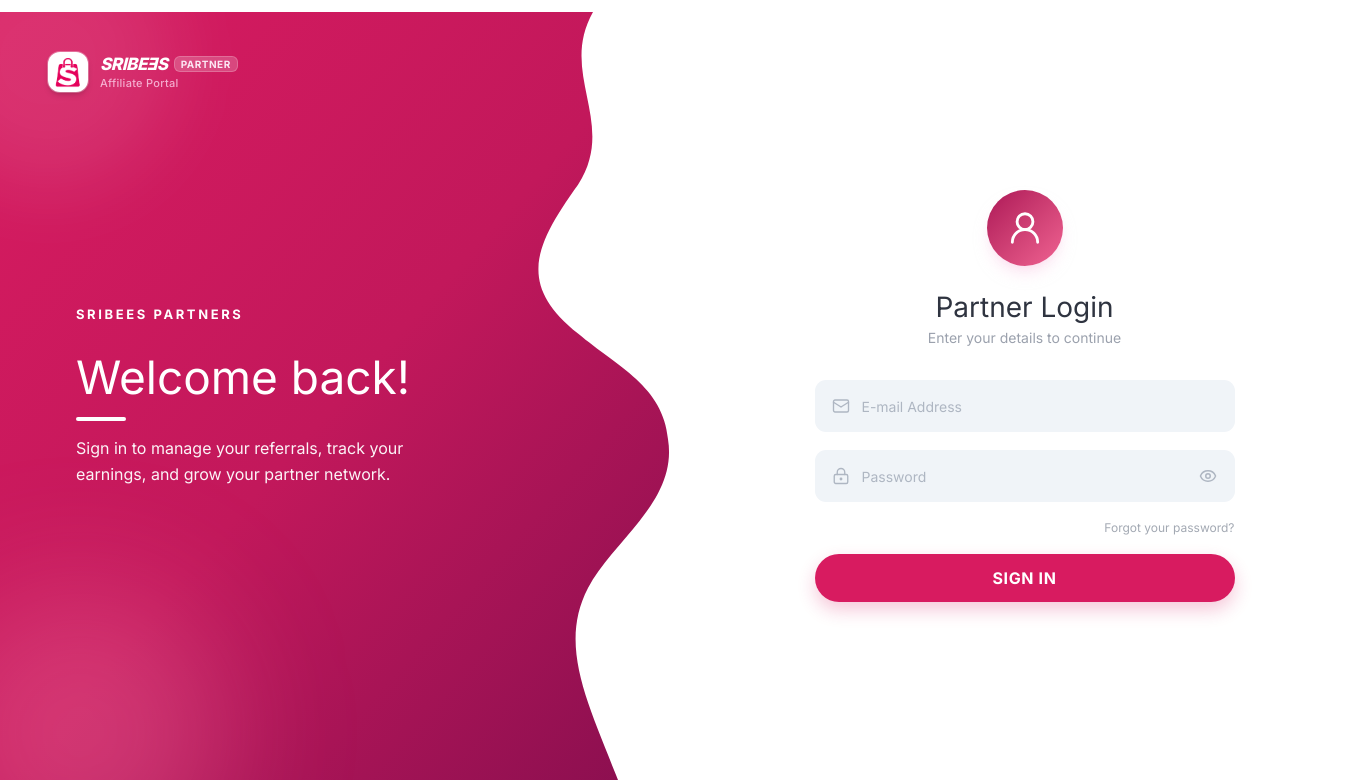
Test: Partner login › falls back to a plain message when the server said nothing
Type "agent@example.test" into the field named "Email" at [1042, 406], box top-left (850, 381), bottom-right (1234, 431)
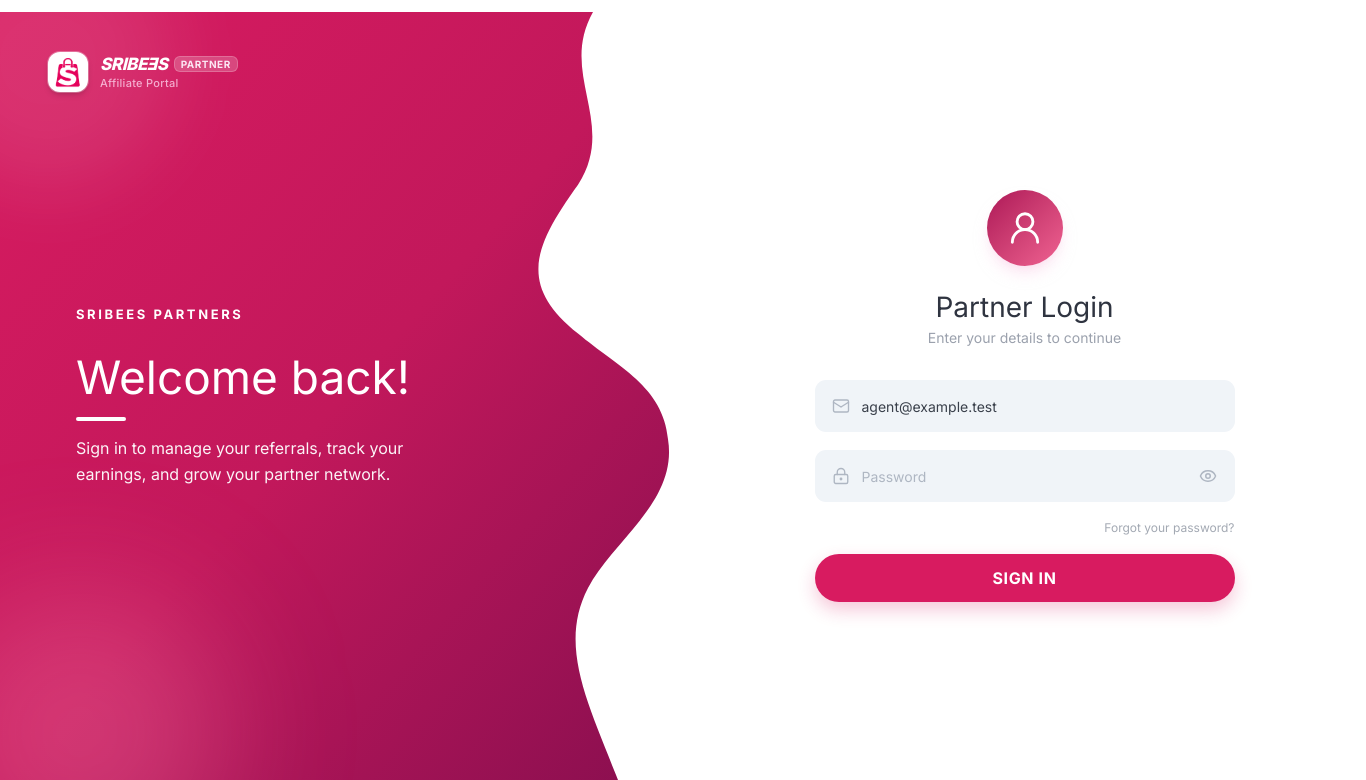
Type "pw" into the password field labelled "Password" at [1022, 476], box top-left (850, 451), bottom-right (1196, 501)
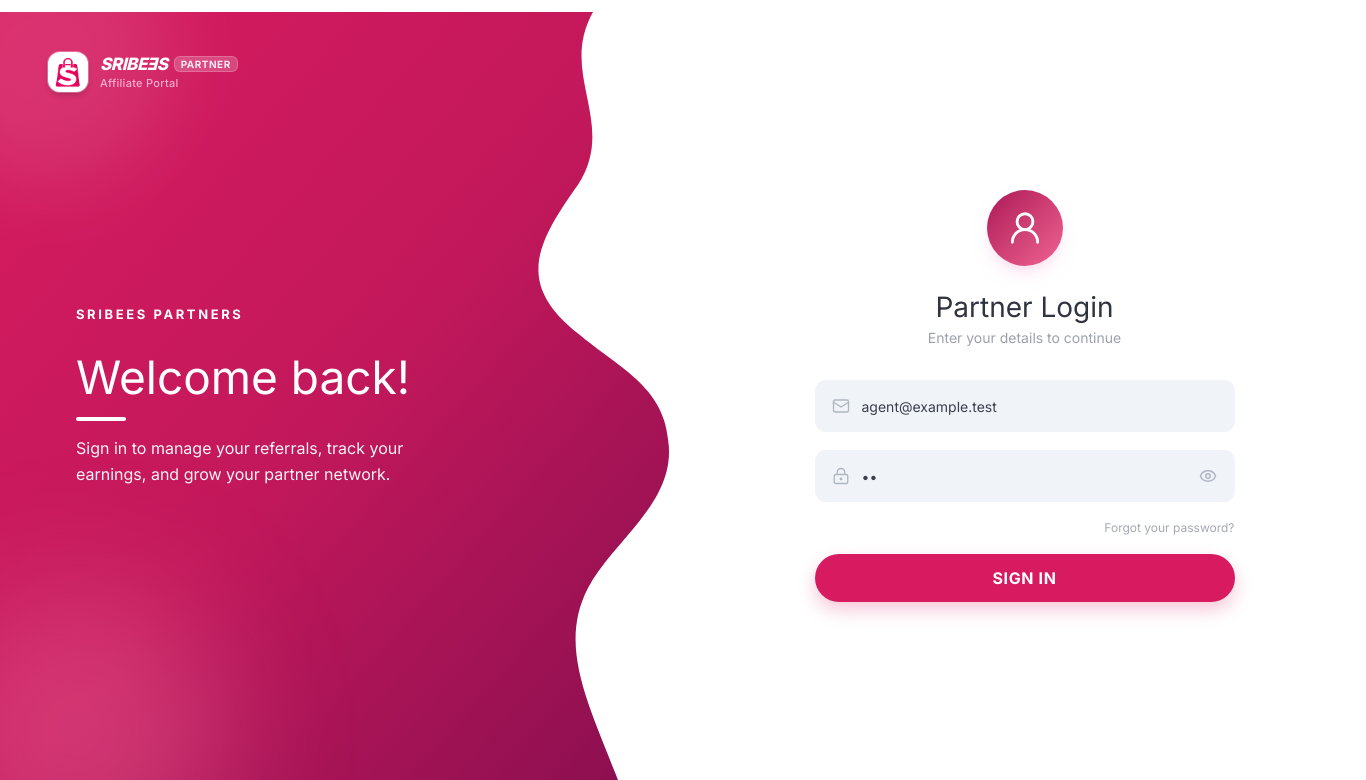
Click the button "Sign in" at [1024, 578], box top-left (814, 554), bottom-right (1234, 602)
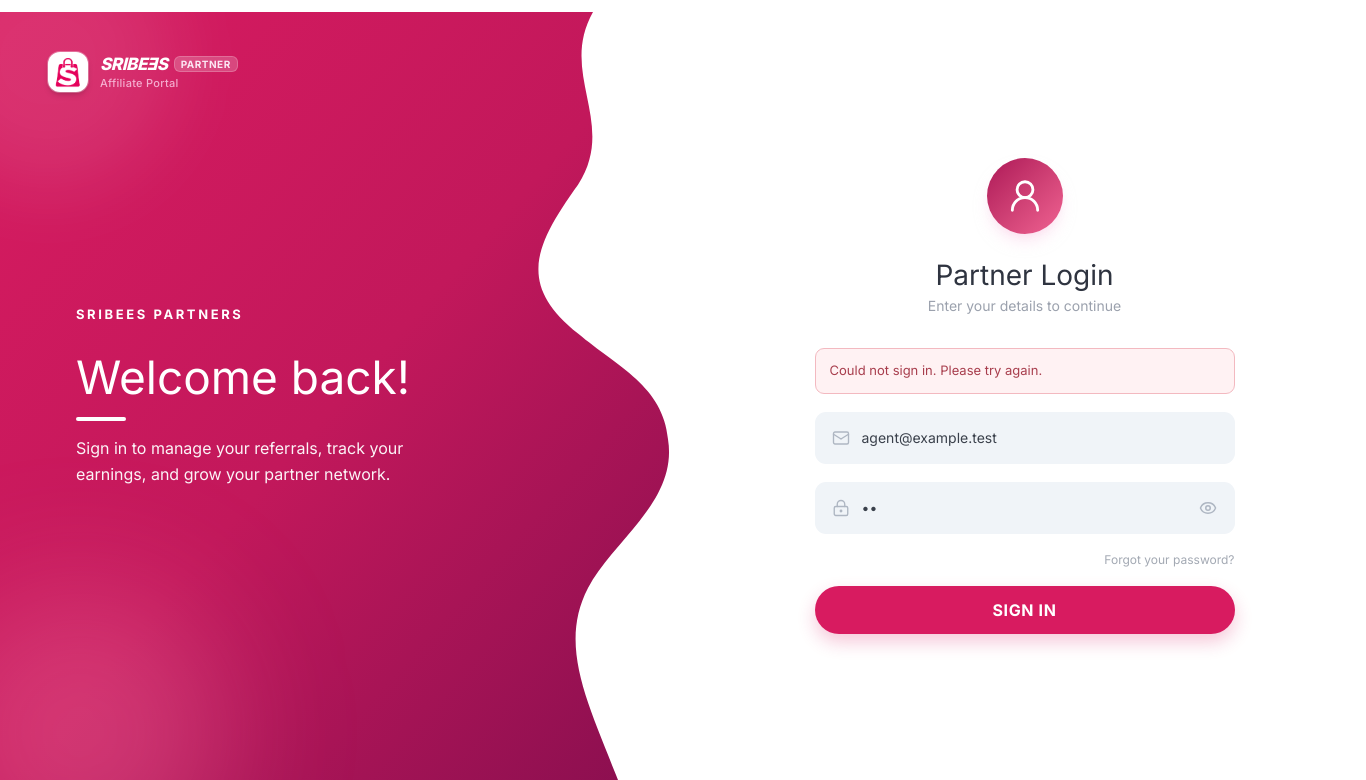
Expected: the text "Could not sign in. Please try again." is shown, top-left (814, 348), bottom-right (1234, 394)
